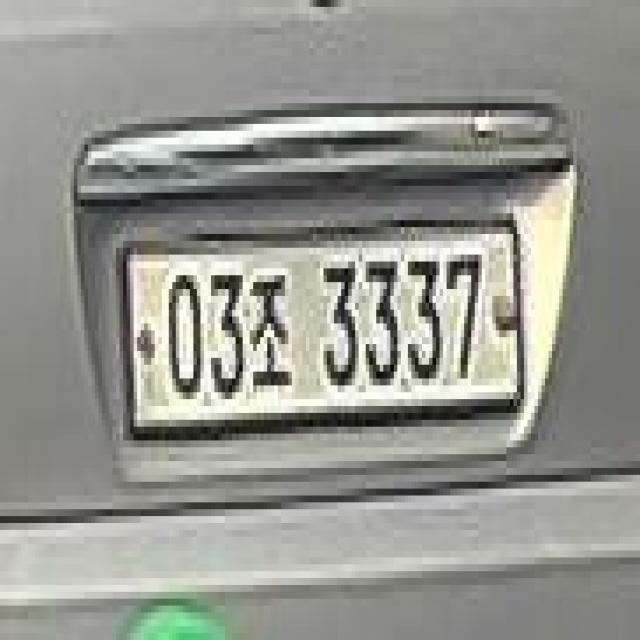illegal_plate: (122, 221, 526, 442)
